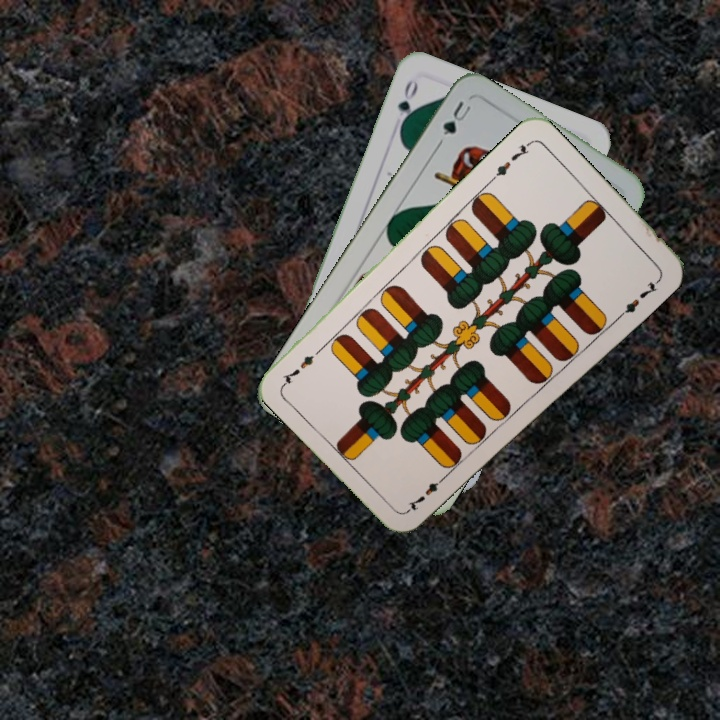E7: (403, 469, 451, 514), (487, 138, 534, 183)
GO: (393, 76, 421, 133)
GU: (434, 96, 475, 147)
